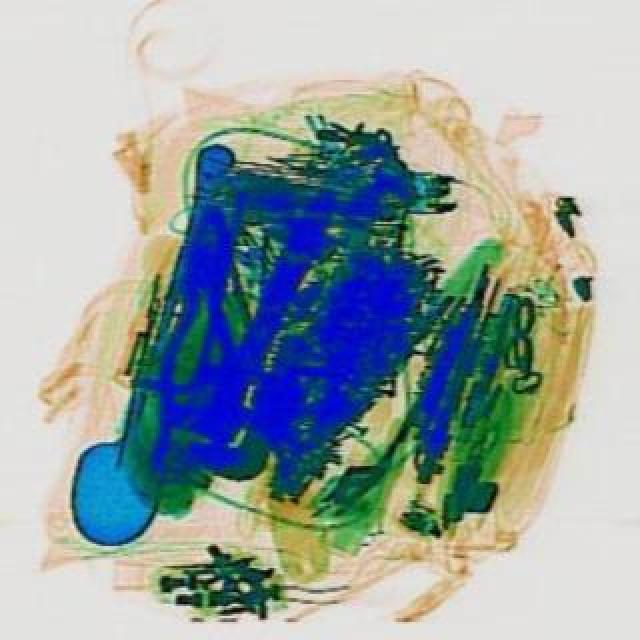wrench: (146, 200, 250, 468)
